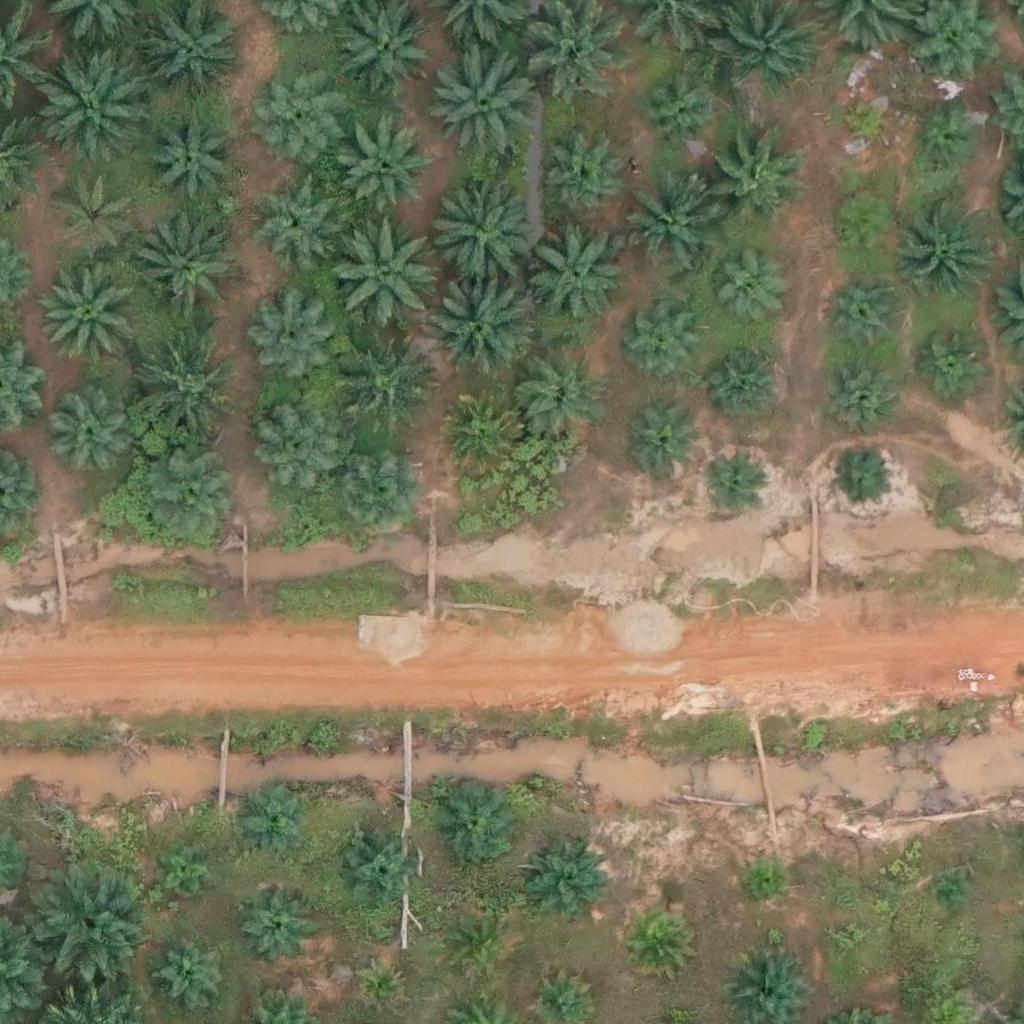Kelapa_Sawit: (421, 43, 534, 157), (31, 870, 144, 983), (426, 270, 539, 383), (418, 174, 531, 287), (326, 216, 438, 330), (126, 339, 238, 452), (39, 55, 151, 168), (701, 130, 801, 231), (615, 179, 715, 280), (525, 227, 625, 328), (333, 332, 433, 433), (135, 225, 235, 326), (39, 265, 139, 366), (900, 196, 1000, 297), (144, 452, 244, 552), (331, 824, 419, 912), (814, 352, 902, 440), (433, 390, 521, 478), (636, 68, 724, 156), (343, 128, 431, 216), (245, 296, 333, 384), (256, 403, 343, 492), (54, 171, 141, 260), (432, 780, 519, 868), (824, 271, 911, 359), (541, 137, 628, 225), (518, 357, 605, 445), (334, 449, 421, 537), (246, 174, 333, 262), (255, 62, 342, 150), (149, 113, 236, 201), (51, 393, 138, 481), (528, 848, 603, 924), (237, 890, 312, 966), (707, 254, 782, 330), (709, 342, 784, 418), (908, 102, 983, 178), (827, 189, 902, 265), (915, 324, 990, 399), (627, 309, 702, 384), (625, 409, 700, 484), (239, 787, 302, 850), (628, 908, 691, 971), (698, 450, 761, 513), (160, 942, 222, 1005), (831, 446, 893, 509), (451, 914, 513, 977), (834, 90, 896, 153), (162, 847, 212, 897), (930, 878, 968, 916), (744, 862, 781, 900), (359, 963, 396, 1000), (833, 925, 858, 951)
